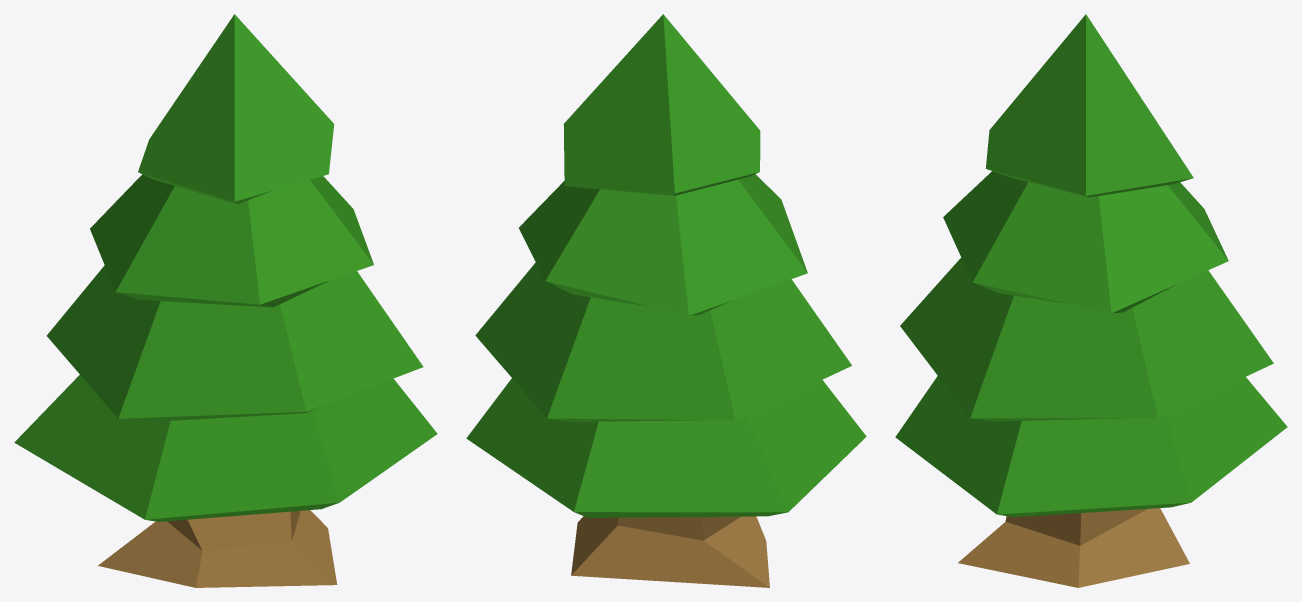
File: intro_prop(pine-tree)_01.FBX
The picture shows the model from 3 angles, left to right: view 1: azimuth 30°, elevation 25°; view 2: azimuth 150°, elevation 25°; view 3: azimuth 270°, elevation 25°; orthographic projection.
Parts seen in each view (by area): view 1: pine_tree; view 2: pine_tree; view 3: pine_tree.
Part boxes in pixels (x1=…): pine_tree: x1=14, y1=14, x2=437, y2=587; pine_tree: x1=466, y1=14, x2=866, y2=587; pine_tree: x1=895, y1=14, x2=1287, y2=587.
Size of the model in its own units: 61.89 by 95.22 by 63.86.
